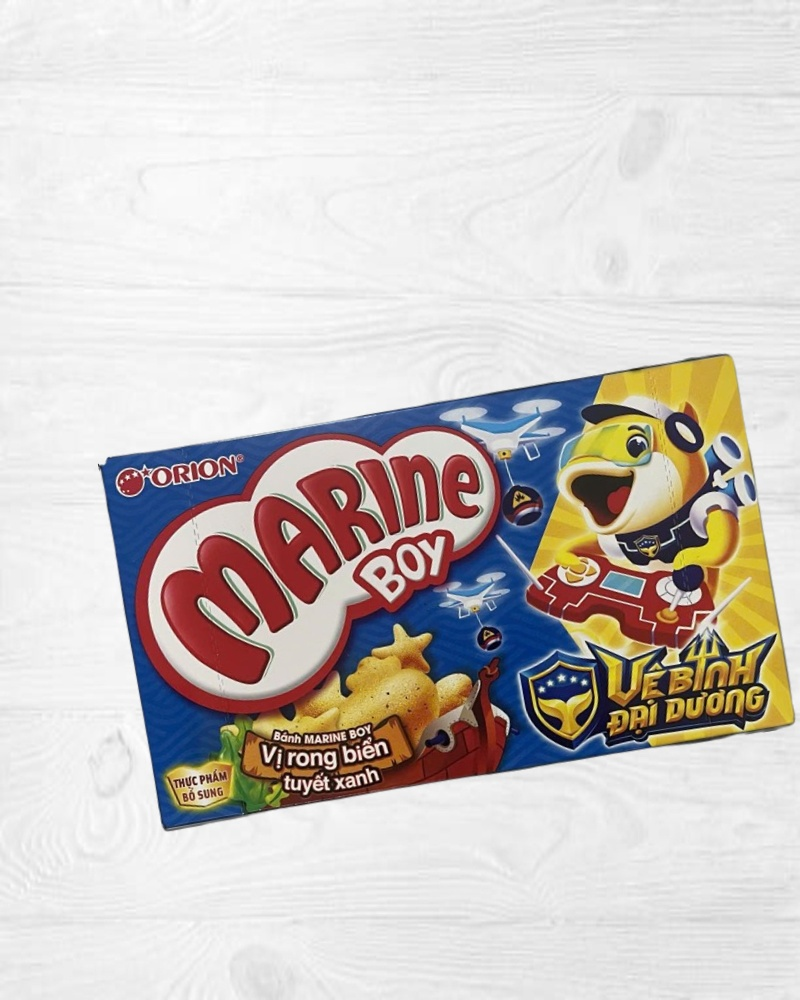Marine: (100, 348, 800, 837)
